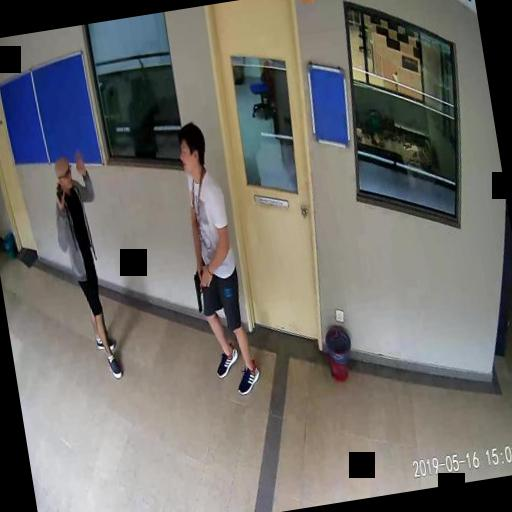Handgun: (190, 266, 209, 311)
